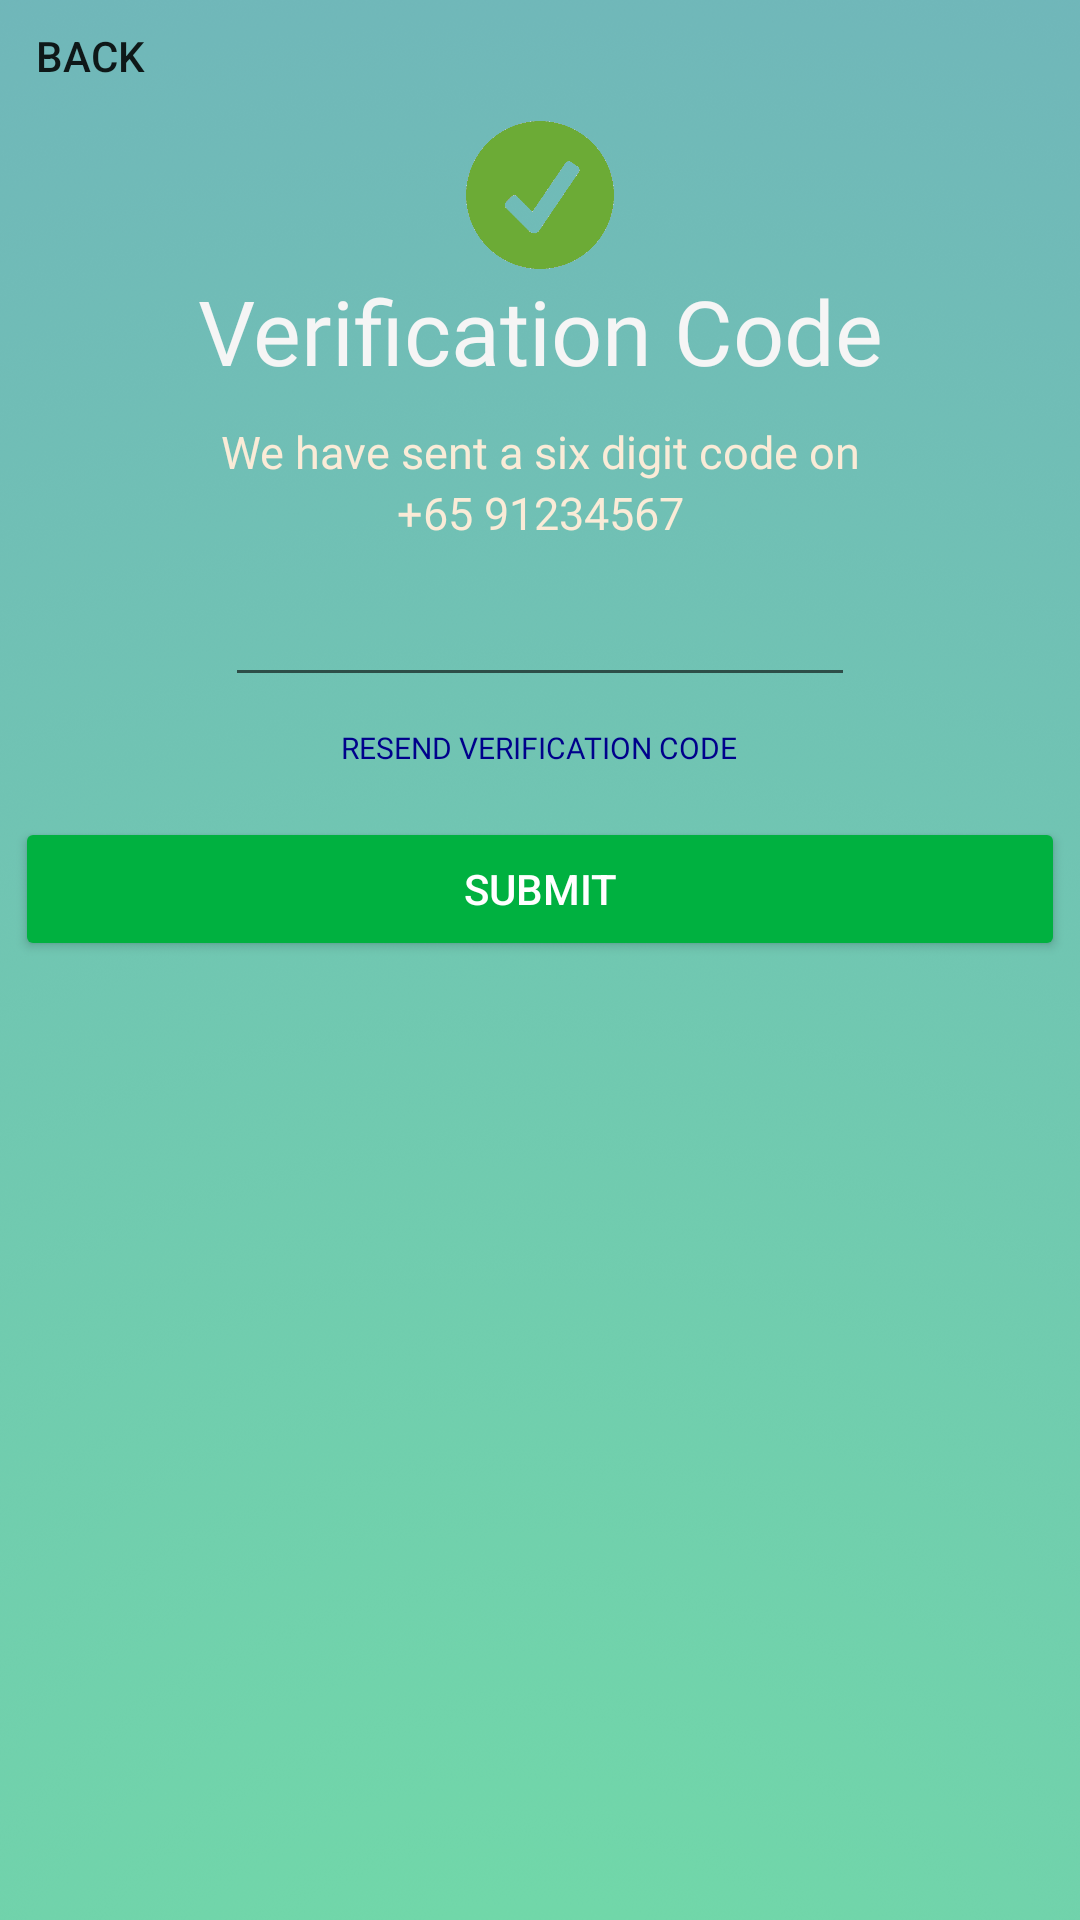

Where icons sit on this 1080px x 1920px app screen, as (x1, y1, x2, y2):
verify: (466, 121, 614, 269)
